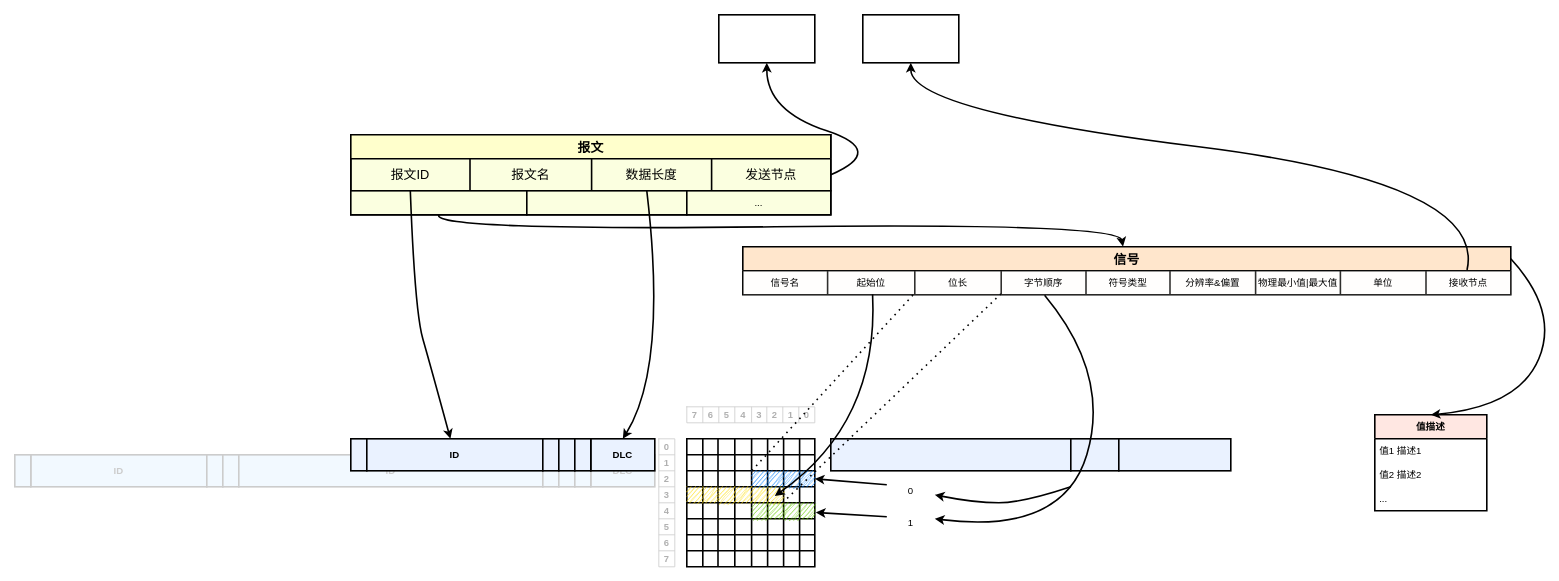
Image size: 1559x581. Some labels were removed from this diagram. The centre of each missing label's shape, as x and y in pixels:
BU_ 1: point 766,38
BU_ 2: point 910,38
信号1: point 438,202
信号2: point 606,202
